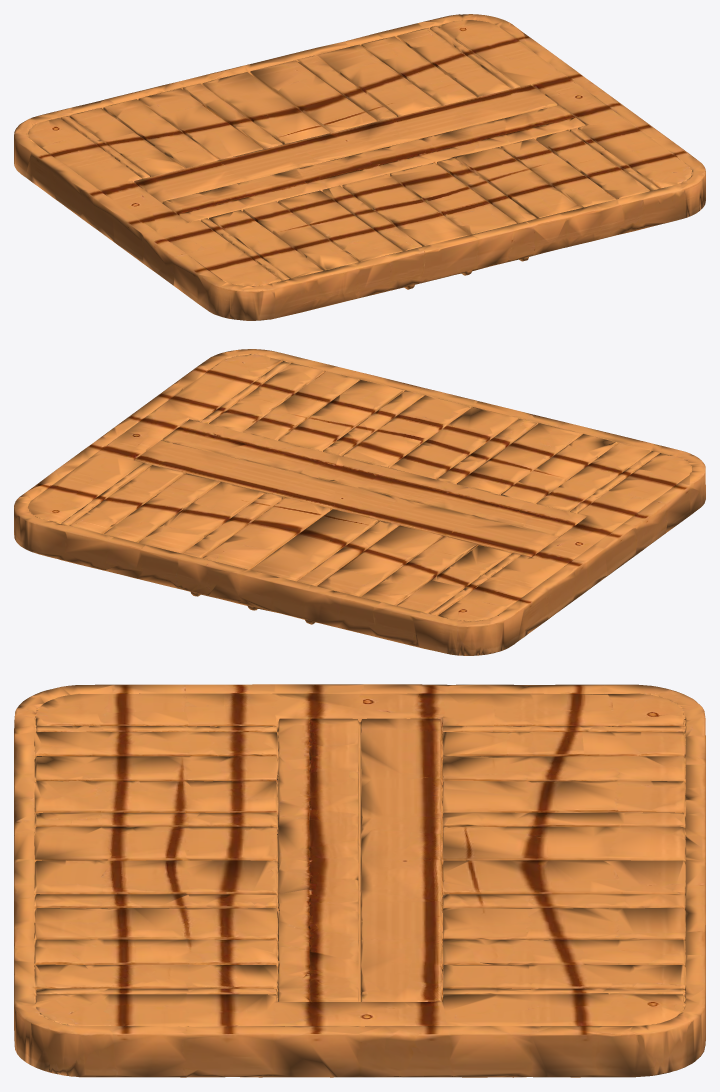
Rendered from platform-wood.glb.
3 views of the same model, one above another, from view 1: azimuth 30°, elevation 25°; view 2: azimuth 150°, elevation 25°; view 3: azimuth 270°, elevation 25° (orthographic). The views are drawn at different scales.
Bounding box in the file's own units: 1.9 × 0.1663 × 1.58.
1 material, 1 textured.
